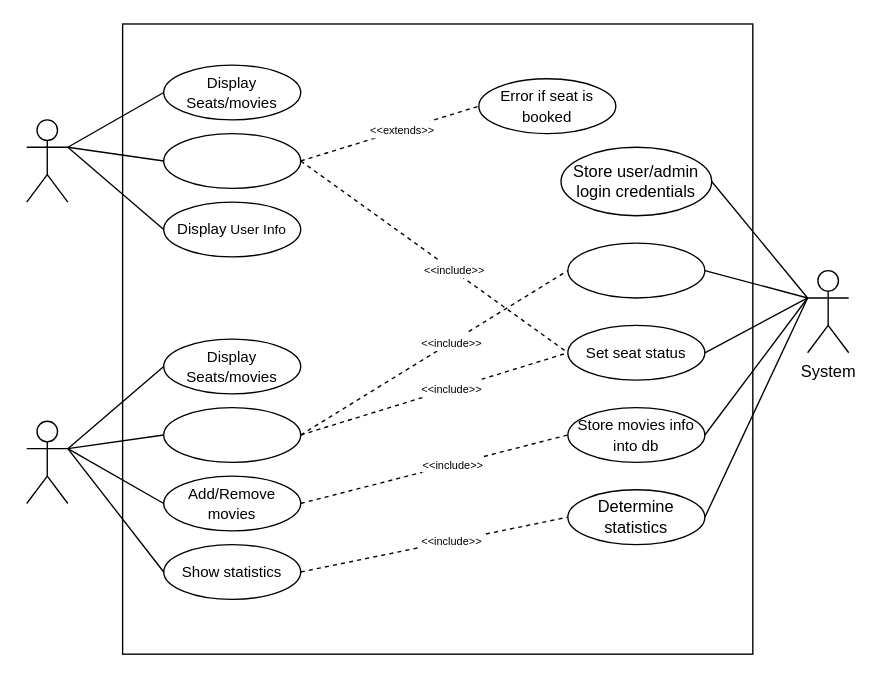
This 880x678 diagram has some shape labels left out. The shapes that lost their labels are listed below. From the top down, each one's centre as x and y in pixels, then its label:
(46,160): User
(231,160): Buy Ticket
(635,270): Set Seat Price
(231,434): Initialize Seats
(46,461): Admin
